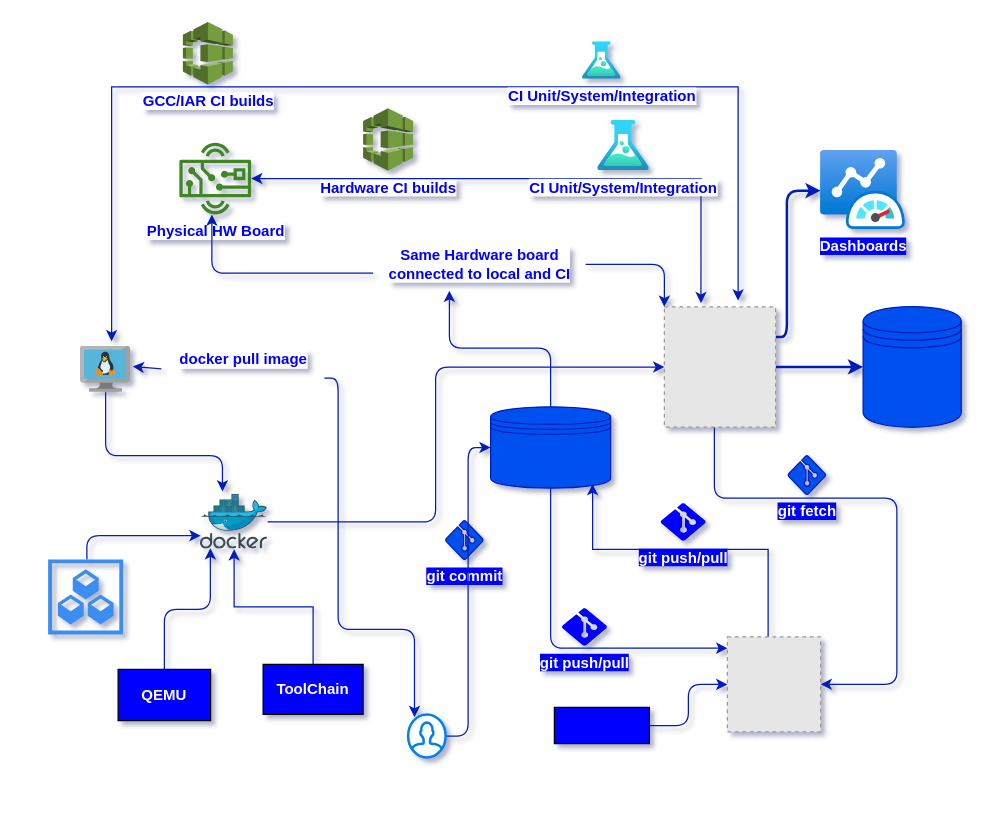
The diagram is 991 pixels wide and 813 high, and some of its shapes have lost their labels. Grey dashed boxes stand in for pictures. The centre of each missing label's shape, as x and y in pixels:
"Developer/QA" belongs at (426,735).
"docker Artifactory" belongs at (85,596).
"docker linux Image" belongs at (105,369).
"Host Machine" belongs at (550,447).
"Remote Repo" belongs at (601,725).
"Source, Build, Test Documents, Artifacts" belongs at (911,366).
